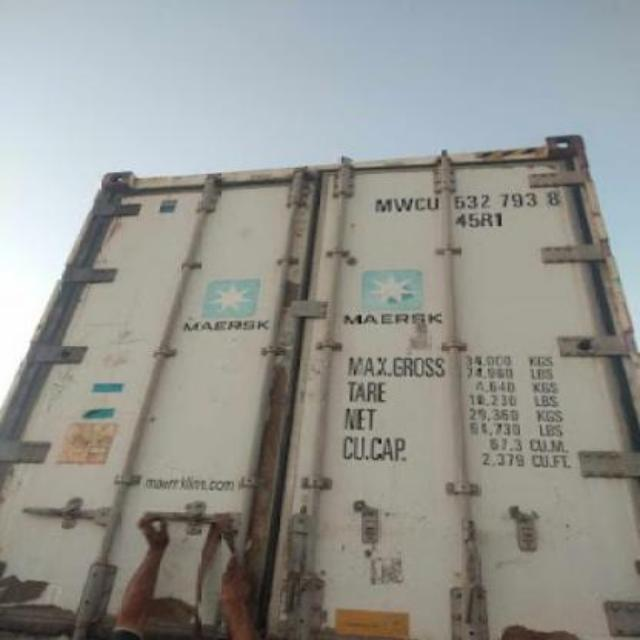2: (480, 192, 492, 206)
3: (466, 194, 479, 210), (526, 192, 538, 208)
5: (452, 194, 466, 210)
7: (500, 194, 512, 210)
8: (548, 192, 560, 208)
9: (512, 191, 526, 209)
C: (414, 198, 428, 212)
M: (374, 198, 394, 214)
U: (426, 196, 442, 212)
W: (392, 199, 414, 211)
